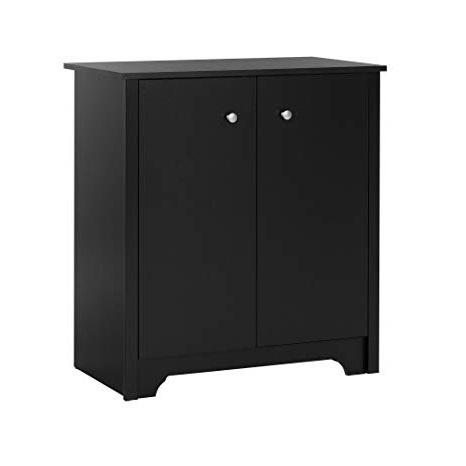cabinet_door: (139, 79, 255, 349), (257, 78, 368, 344)
handle: (274, 105, 296, 127), (222, 107, 242, 130)
